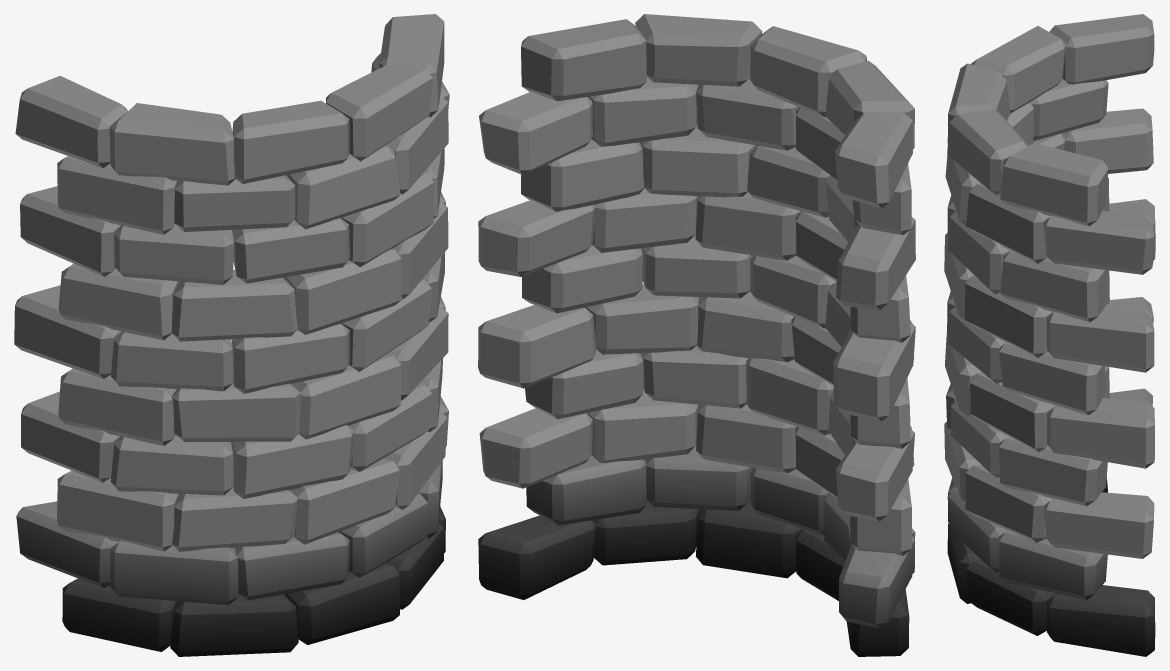
Rendered from BrickWall2x2_01_T180_Mid.fbx.
3 views of the same model, side by side, from view 1: azimuth 30°, elevation 25°; view 2: azimuth 150°, elevation 25°; view 3: azimuth 270°, elevation 25° (orthographic). The views are drawn at different scales.
Visible parts, largest first — view 1: BrickWall2x2_01_T180_Mid; view 2: BrickWall2x2_01_T180_Mid; view 3: BrickWall2x2_01_T180_Mid.
Part boxes in pixels (<box>): BrickWall2x2_01_T180_Mid: <box>14,14,449,656</box>; BrickWall2x2_01_T180_Mid: <box>478,14,915,656</box>; BrickWall2x2_01_T180_Mid: <box>944,14,1155,656</box>.
Size of the model in its own units: 163 by 202 by 80.98.
